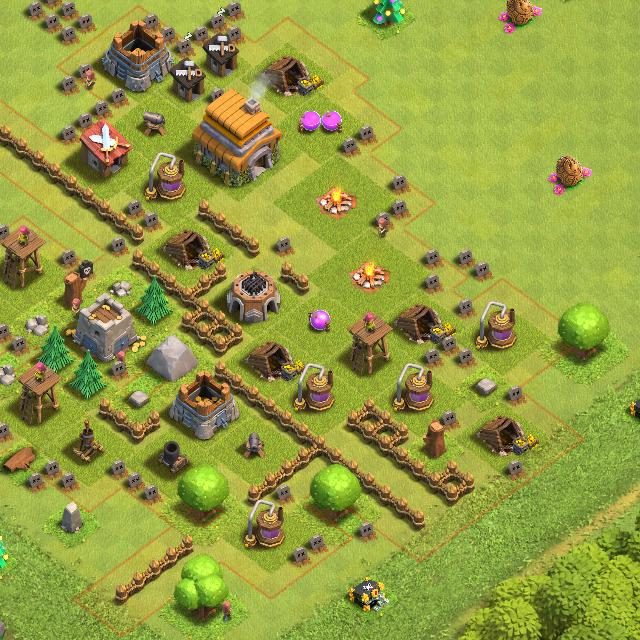Arqueira: (16, 362, 61, 426), (346, 314, 393, 375), (2, 227, 46, 288)
Canhao: (137, 109, 172, 138), (240, 431, 268, 459)
